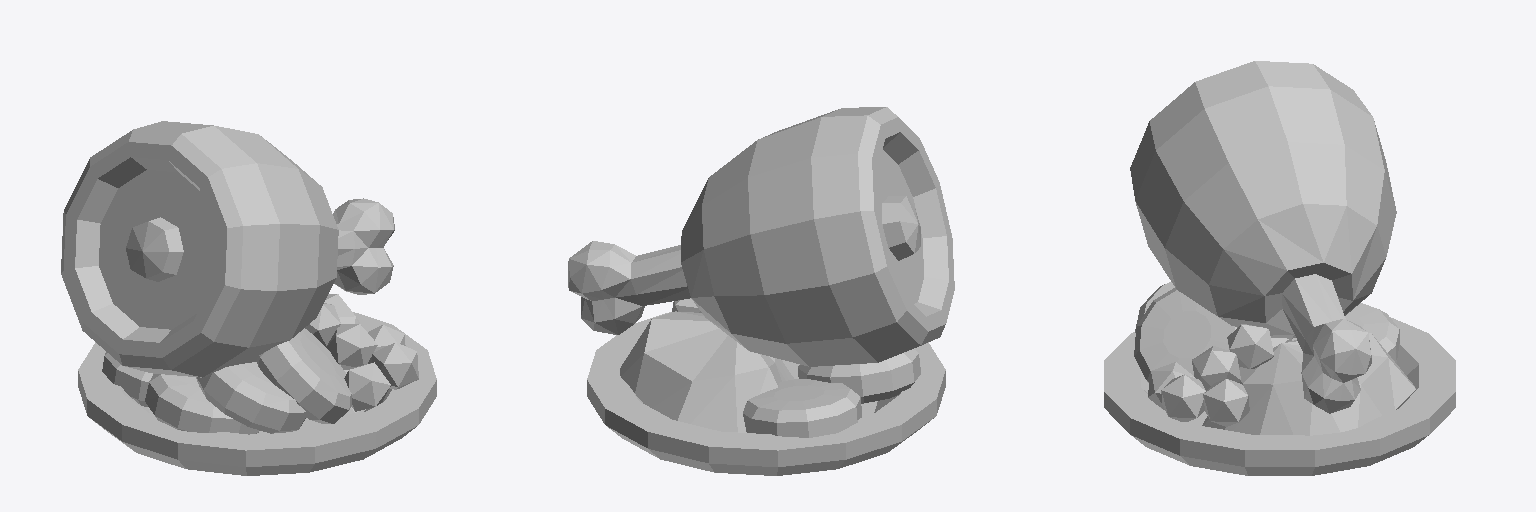
Rendered from food_dinner.obj.
The picture shows the model from 3 angles: view 1: azimuth 30°, elevation 25°; view 2: azimuth 150°, elevation 25°; view 3: azimuth 270°, elevation 25°; orthographic projection.
Parts seen in each view (by area): view 1: food_dinner_Cylinder.116; view 2: food_dinner_Cylinder.116; view 3: food_dinner_Cylinder.116.
Boxes of the visible parts, x1=… form: food_dinner_Cylinder.116: x1=61, y1=121, x2=436, y2=475; food_dinner_Cylinder.116: x1=568, y1=107, x2=954, y2=475; food_dinner_Cylinder.116: x1=1104, y1=61, x2=1455, y2=475.
Bounding box in the file's own units: 1.04 × 0.9078 × 0.95.